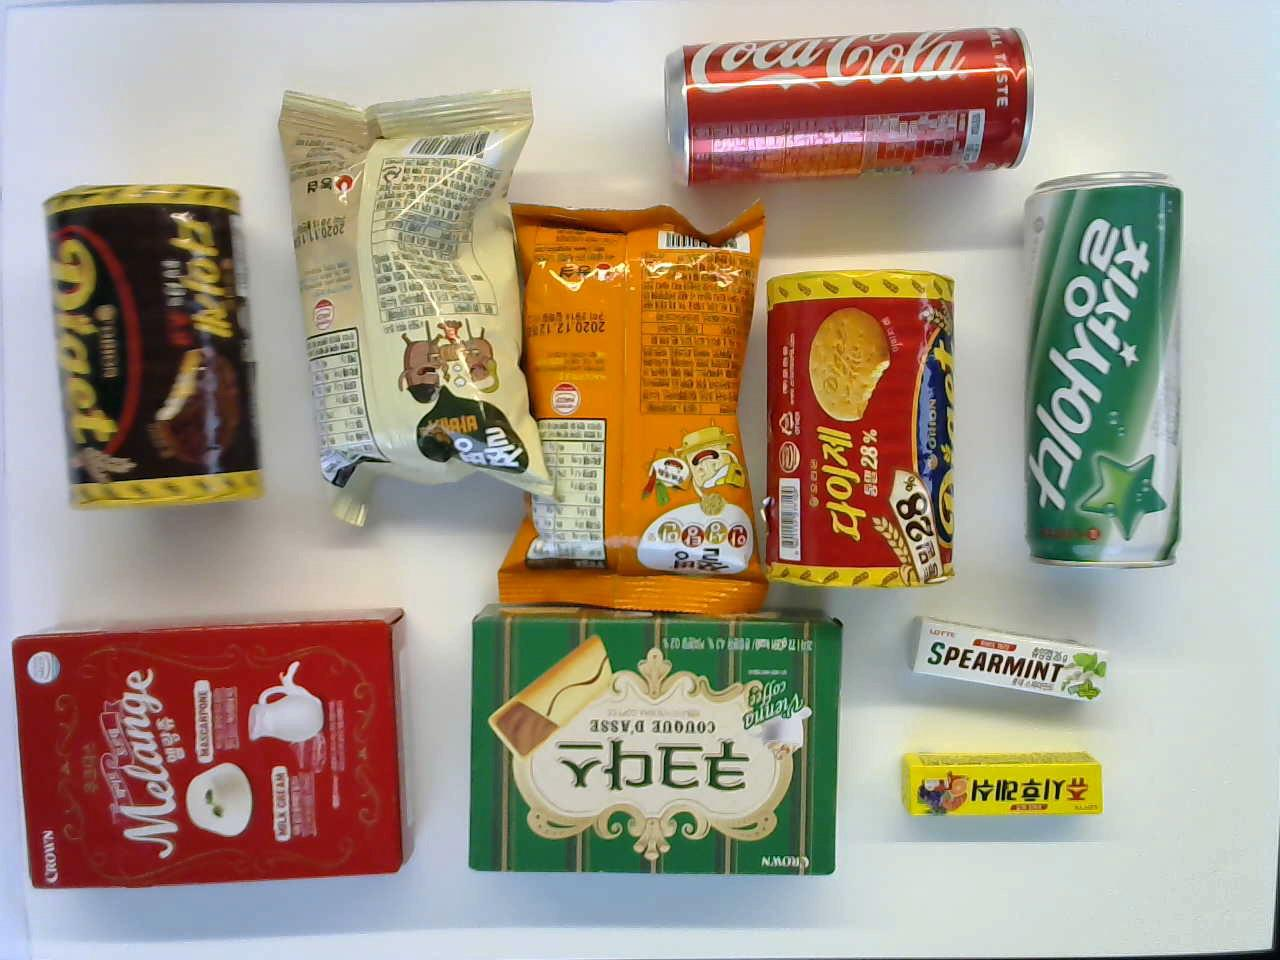cidar: (1021, 170, 1189, 568)
coke: (658, 31, 1038, 181)
couque_coffee: (464, 603, 854, 878)
couque_white: (6, 603, 422, 908)
diget_choco: (32, 177, 273, 510)
diget_ori: (761, 264, 963, 585)
jjolbyung_noodle: (492, 191, 781, 604)
jjolbyung_ori: (274, 79, 548, 515)
juicyfresh: (893, 743, 1118, 827)
spearmint: (898, 607, 1118, 717)
